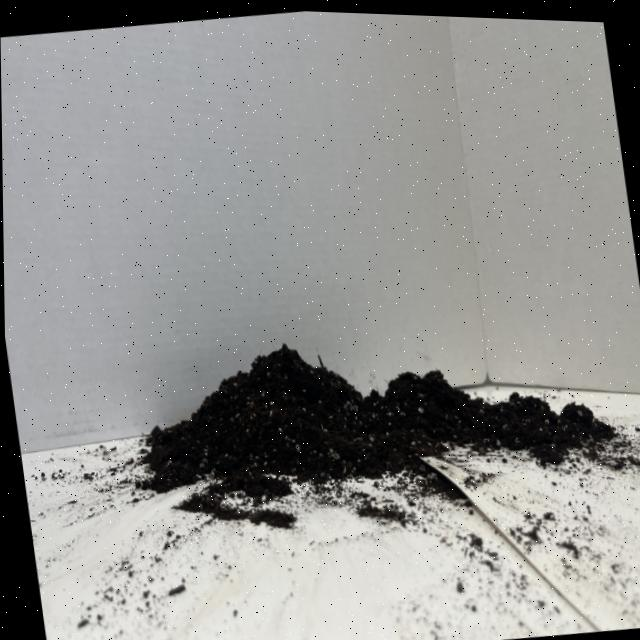soil: (119, 294, 626, 542)
